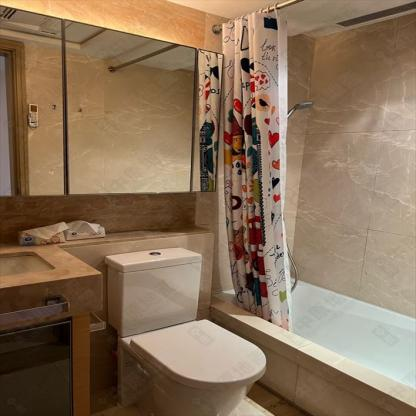Toilet: (98, 247, 268, 415)
Toilet Sink: (0, 251, 54, 277)
